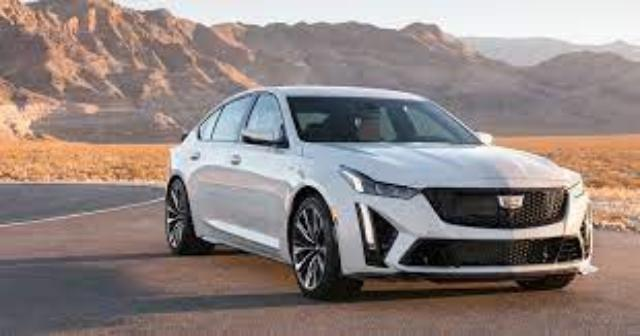cadillac: (164, 85, 598, 302)
